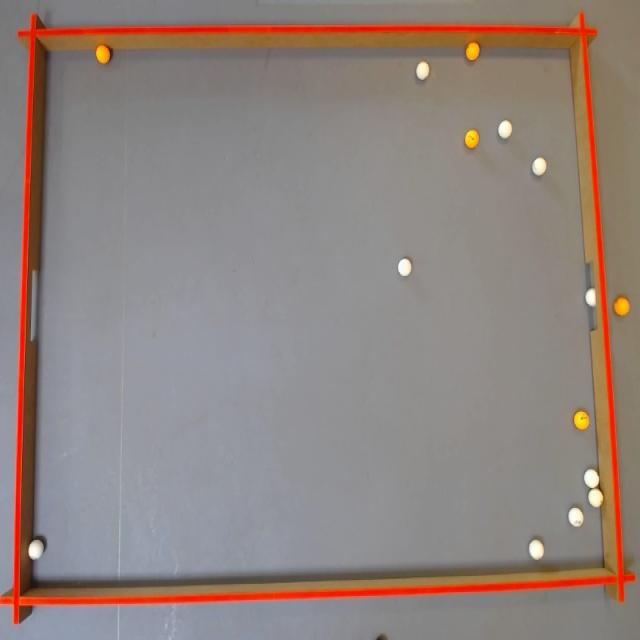orange_ball: (613, 297, 630, 316), (574, 410, 589, 430), (96, 44, 110, 64), (465, 129, 479, 148), (466, 42, 480, 60)
white_ball: (28, 538, 44, 560), (568, 507, 584, 527), (529, 539, 544, 560), (588, 488, 603, 508), (584, 468, 599, 488), (498, 120, 512, 139), (532, 157, 546, 176), (416, 61, 429, 80), (398, 258, 411, 276), (586, 288, 596, 307)
